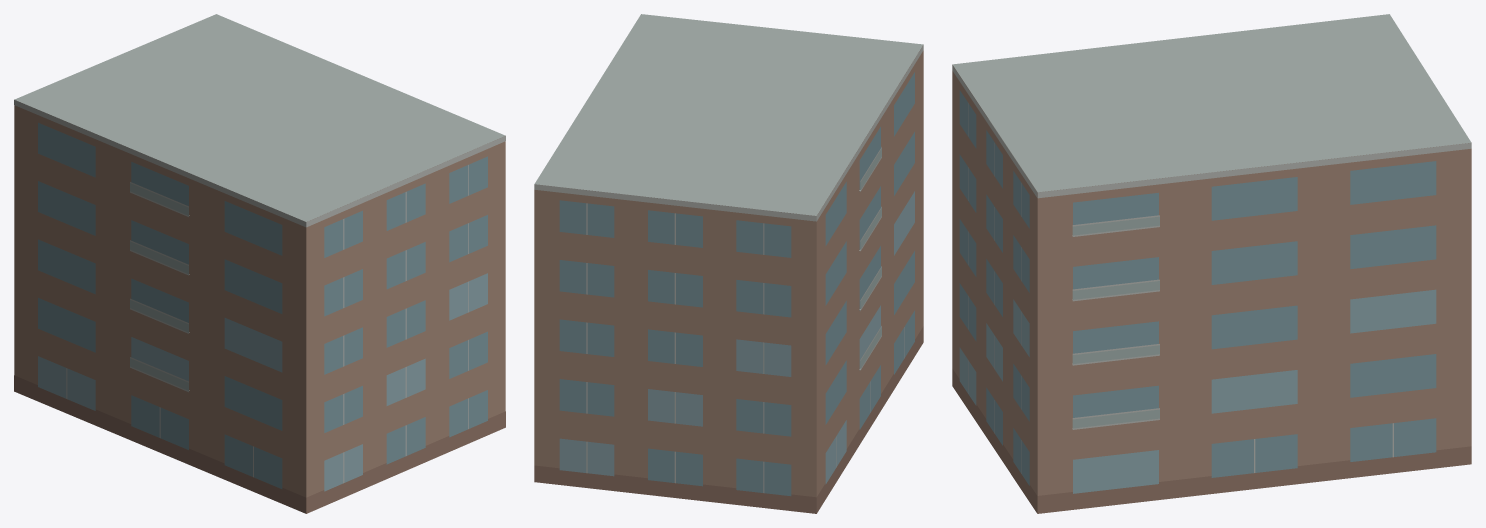
Rendered from survey-upis-32563455.glb.
The picture shows the model from 3 angles, left to right: view 1: azimuth 30°, elevation 25°; view 2: azimuth 150°, elevation 25°; view 3: azimuth 270°, elevation 25°; orthographic projection. The views are drawn at different scales.
Visible parts, largest first — view 1: survey-upis-32563455.tmp; view 2: survey-upis-32563455.tmp; view 3: survey-upis-32563455.tmp.
Part boxes in pixels (x1,y1,x2,y2): survey-upis-32563455.tmp: (14, 14, 505, 513); survey-upis-32563455.tmp: (534, 14, 923, 513); survey-upis-32563455.tmp: (952, 14, 1471, 513).
Bounding box in the file's own units: 15.59 × 13.1 × 19.18.
